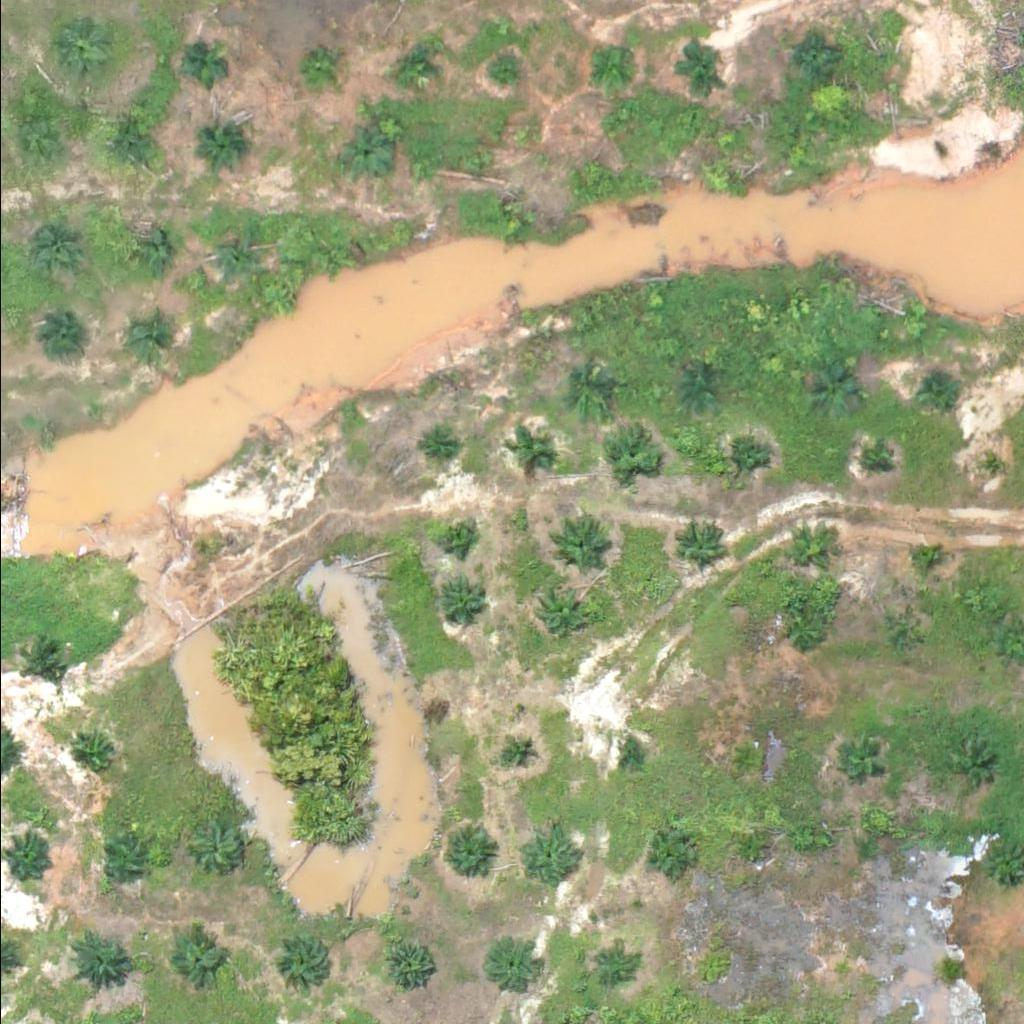Kelapa_Sawit: (19, 215, 82, 278), (63, 929, 126, 992), (530, 580, 593, 643), (48, 22, 111, 84), (434, 820, 497, 882), (516, 824, 579, 886), (548, 514, 611, 576), (777, 610, 828, 660), (170, 929, 221, 979), (484, 940, 535, 990), (185, 823, 236, 873), (102, 834, 153, 884), (4, 834, 55, 884), (383, 937, 434, 987), (647, 830, 698, 880), (389, 39, 440, 89), (783, 523, 834, 573), (33, 316, 83, 366), (202, 123, 252, 173), (177, 41, 227, 91), (207, 230, 257, 280), (338, 129, 388, 179), (122, 226, 172, 276), (123, 312, 173, 362), (281, 934, 331, 984), (69, 728, 119, 778), (13, 637, 63, 687), (98, 120, 148, 170), (713, 431, 763, 481), (604, 429, 654, 479), (671, 518, 721, 568), (435, 578, 485, 628), (670, 43, 720, 93), (580, 41, 630, 91), (838, 738, 888, 788), (945, 738, 995, 788), (805, 365, 855, 415), (785, 34, 835, 84), (554, 367, 604, 417), (591, 943, 629, 981), (312, 238, 350, 276), (301, 50, 339, 88), (511, 428, 549, 466), (420, 429, 458, 467), (437, 516, 475, 554), (460, 142, 498, 180), (573, 152, 611, 190), (698, 158, 736, 196), (916, 369, 954, 407), (500, 735, 538, 772), (498, 206, 536, 243), (725, 739, 762, 777), (880, 613, 917, 651), (678, 369, 716, 406), (730, 832, 768, 869), (480, 52, 517, 89), (616, 741, 641, 766), (913, 542, 938, 567), (974, 454, 999, 479), (862, 448, 887, 473), (826, 957, 851, 982)
